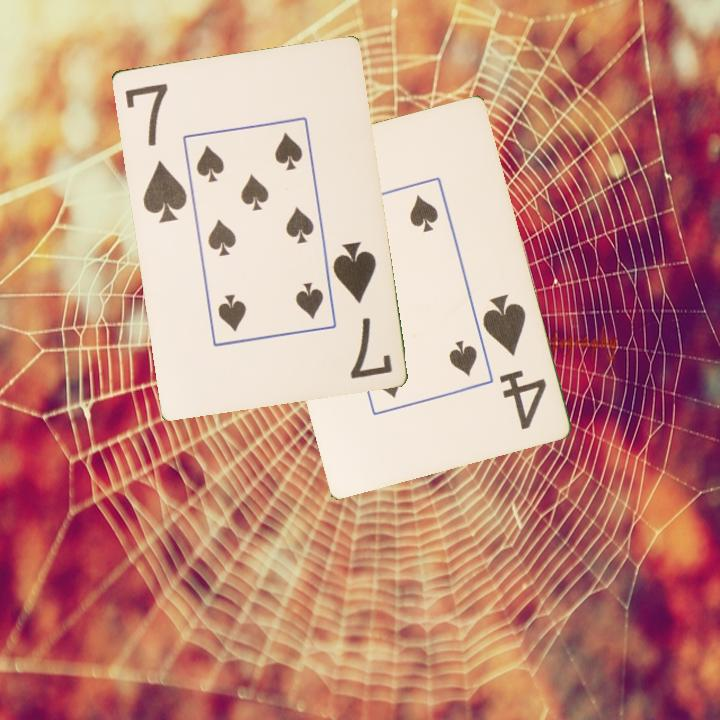4s: (478, 290, 549, 432)
7s: (120, 79, 190, 226), (329, 237, 395, 382)
